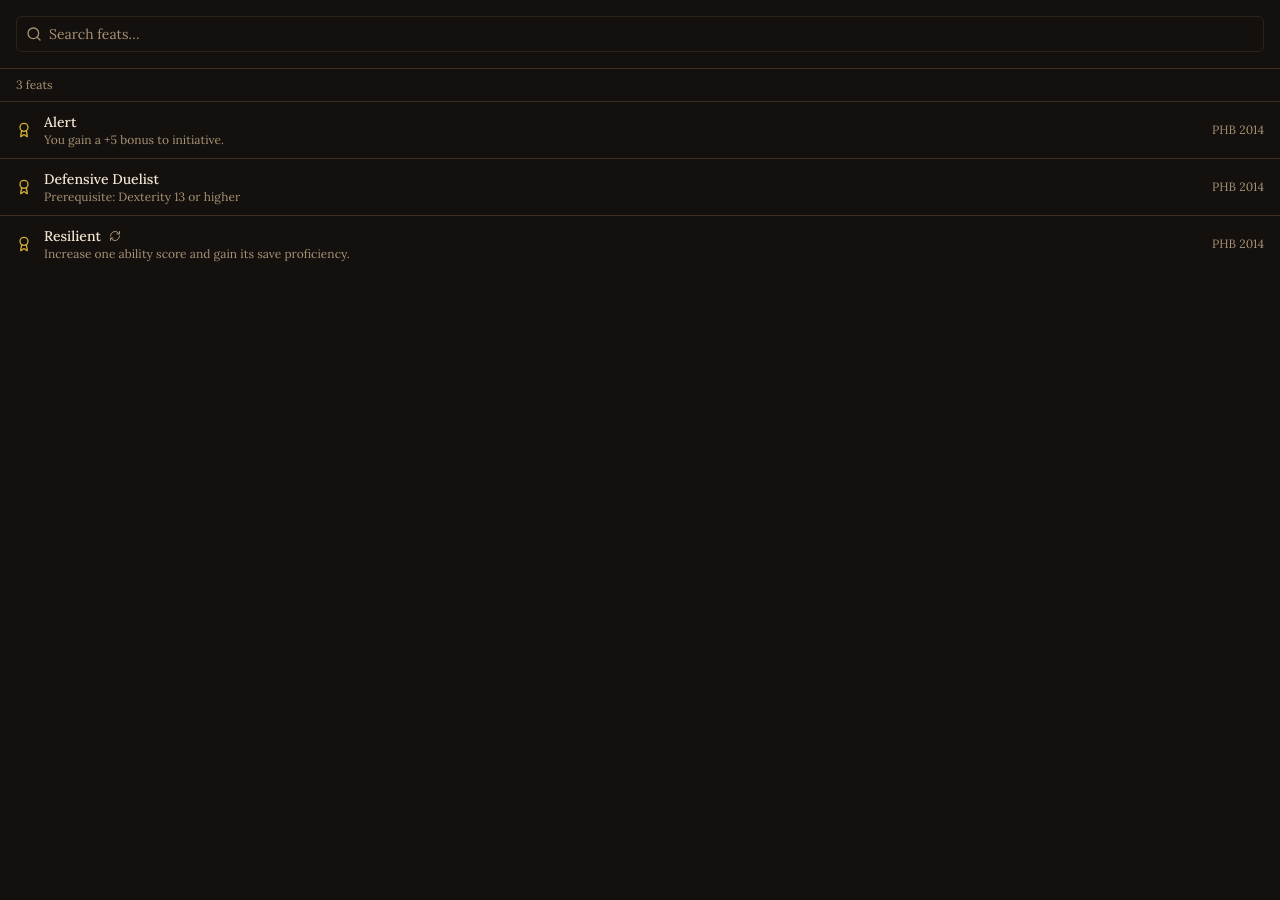
Scenario: FeatsTab › opens a detail dialog with the full description on click
Check: the text "Defensive Duelist" is shown, box [44,169,159,189]
Check: the text "Add your proficiency bonus to AC with a reaction." is not shown
Click the button with test id "feat-row-2". click: (101, 179)
box: [0,159,1279,216]
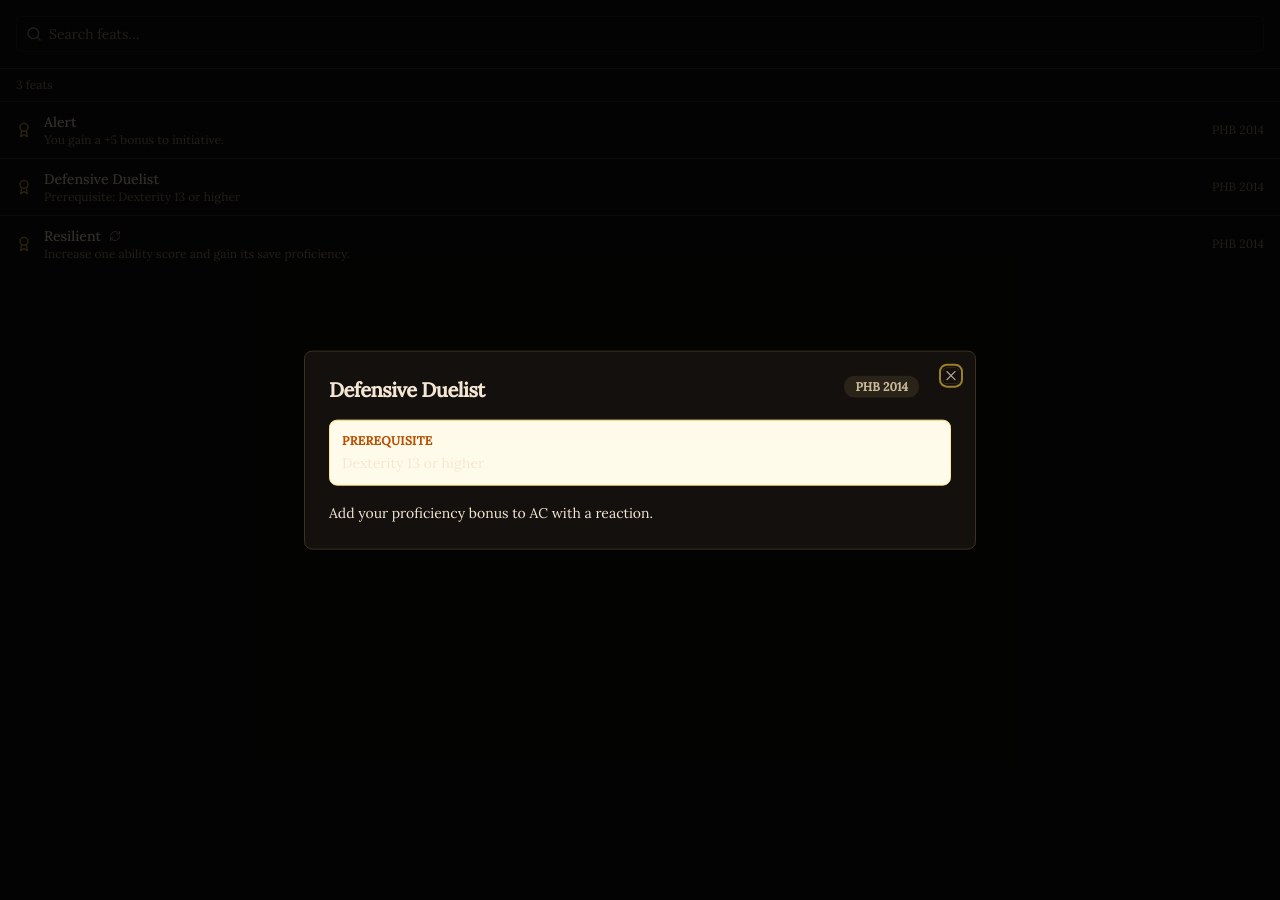
Check: the text "Add your proficiency bonus to AC with a reaction." is shown, box [329,504,653,522]
